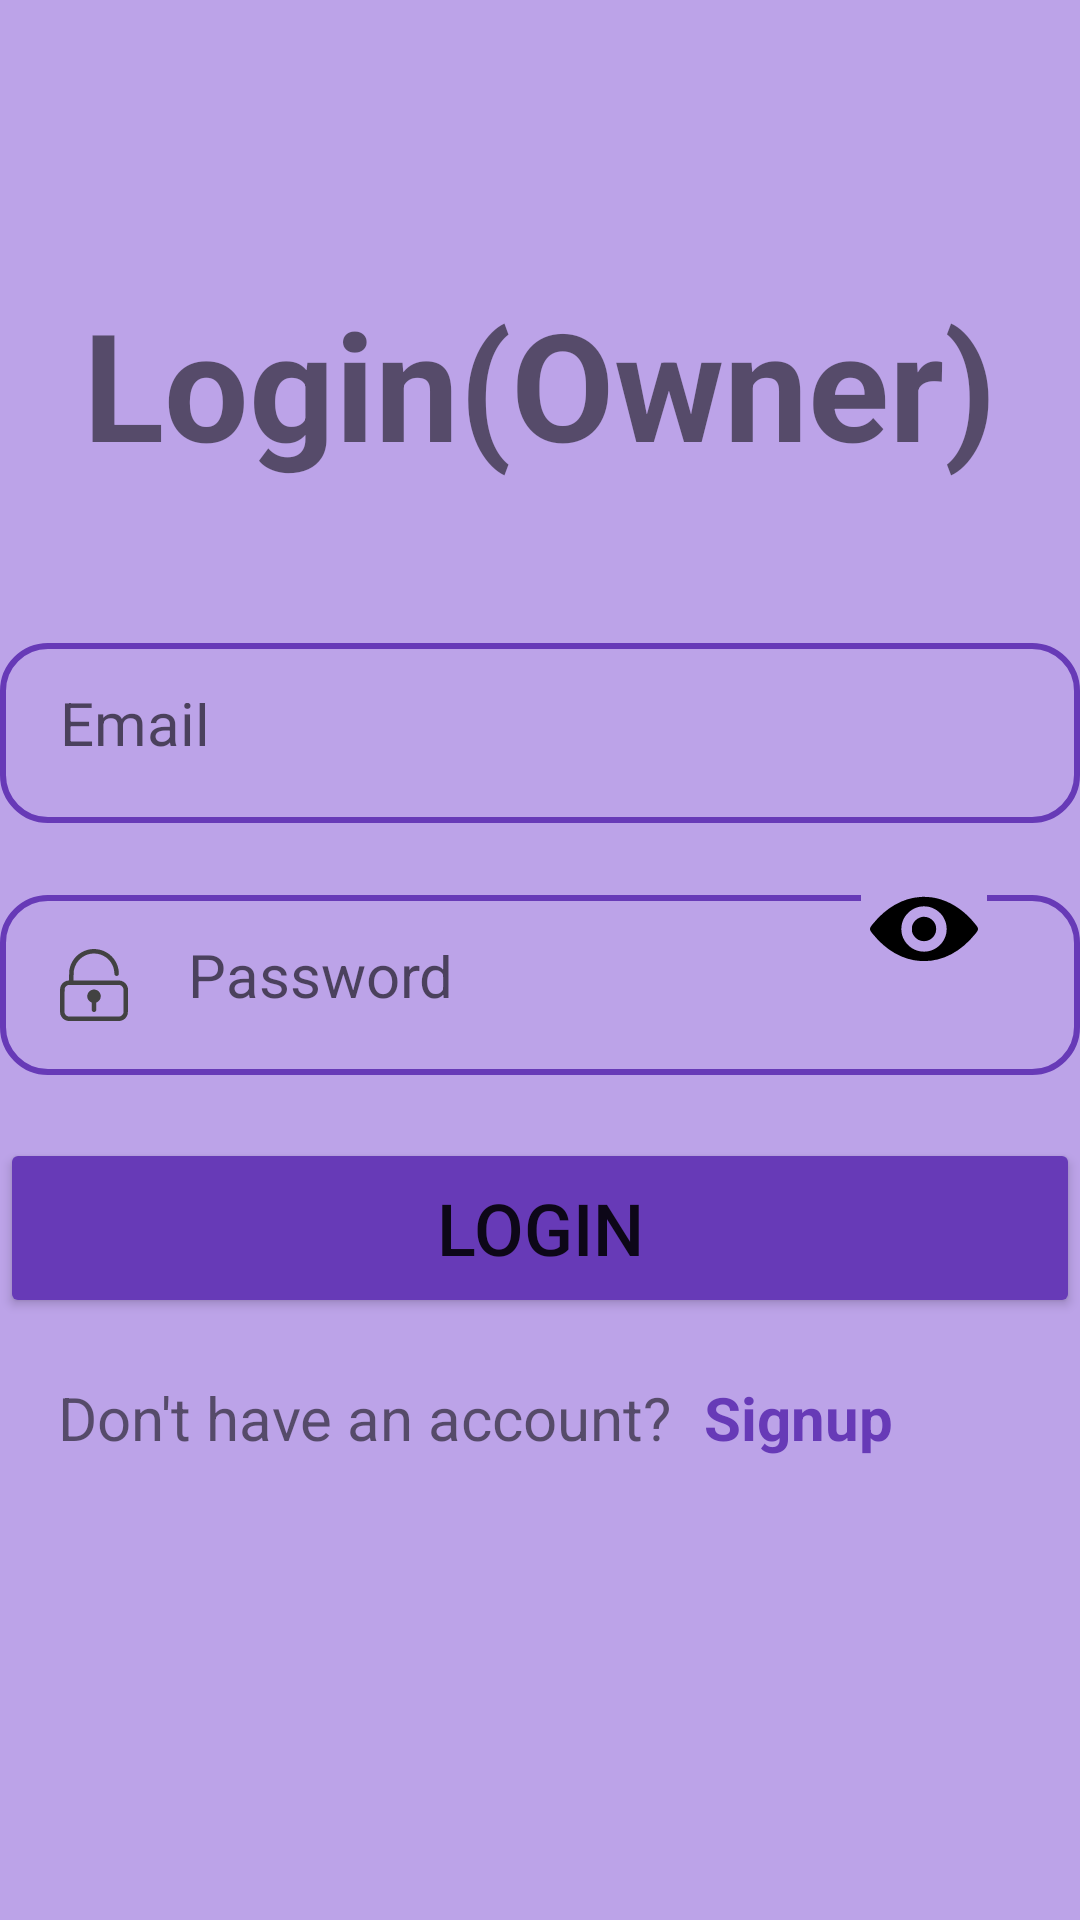

Named icons in this screenshot (1080px x 1920px) and their bounding boxes, (x1,y1,x2,y2):
eye: (870,896,978,961)
